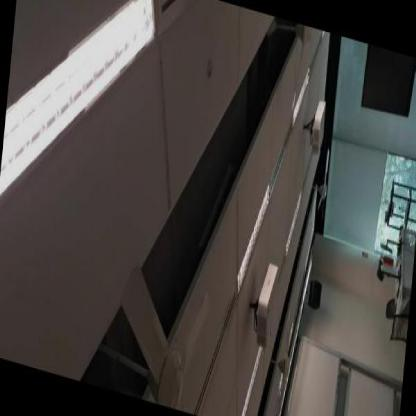light_on: (0, 0, 176, 262), (232, 170, 276, 302), (234, 336, 271, 415), (286, 58, 315, 130), (282, 188, 304, 264)
